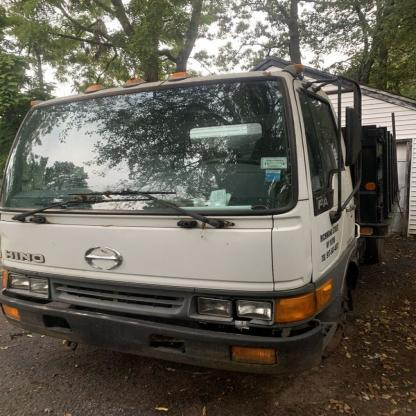dump_truck: (3, 49, 415, 390)
